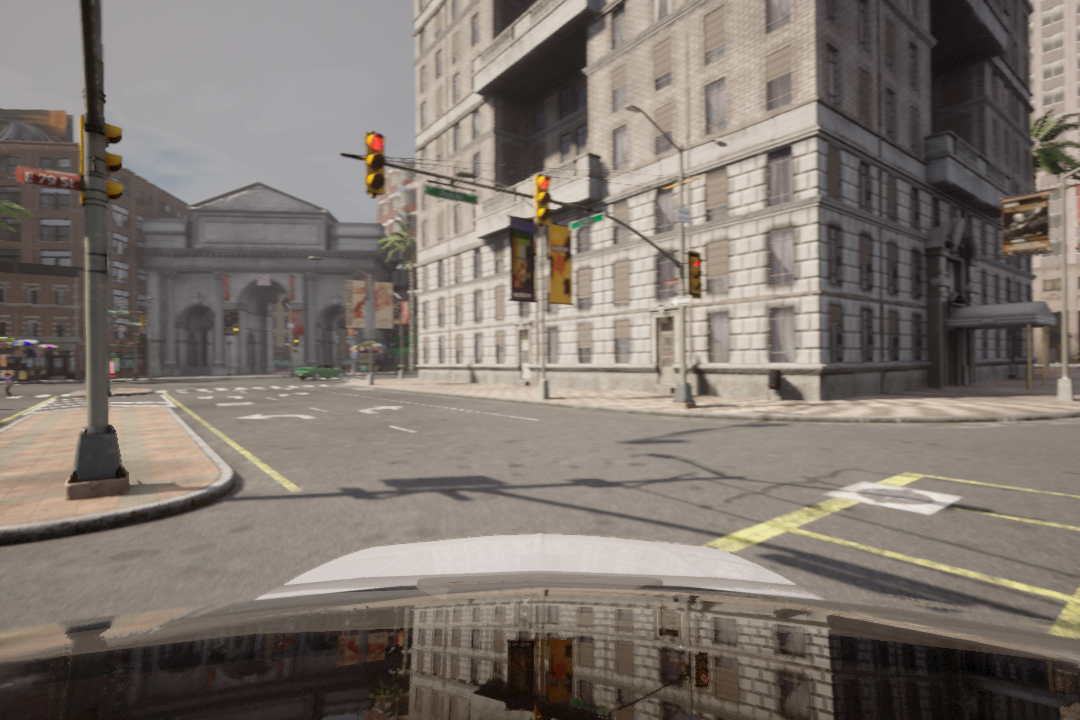RoadSign_left: (235, 409, 323, 422)
RoadSign_right: (356, 402, 407, 417)
TrafficLight: (363, 130, 392, 201), (531, 171, 554, 224), (685, 251, 708, 297)
